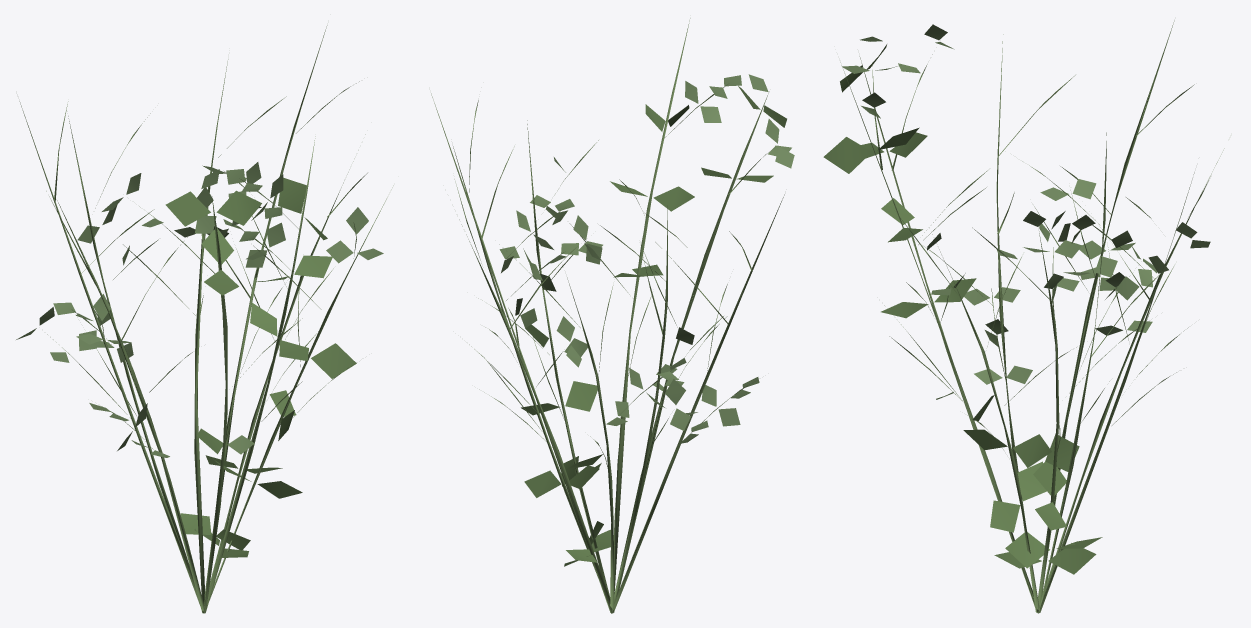
Rendered from Nepita_1_Niveau2.fbx.
3 renders of one model, left to right at view 1: azimuth 30°, elevation 25°; view 2: azimuth 150°, elevation 25°; view 3: azimuth 270°, elevation 25°, orthographic. The views are drawn at different scales.
Parts seen in each view (by area): view 1: Nepita_1_Niveau2; view 2: Nepita_1_Niveau2; view 3: Nepita_1_Niveau2.
Boxes of the visible parts, x1,y1,x2,y2 form: Nepita_1_Niveau2: (16, 25, 393, 613); Nepita_1_Niveau2: (431, 18, 794, 613); Nepita_1_Niveau2: (823, 20, 1224, 613).
Bounding box in the file's own units: 27.28 × 42.68 × 27.76.
